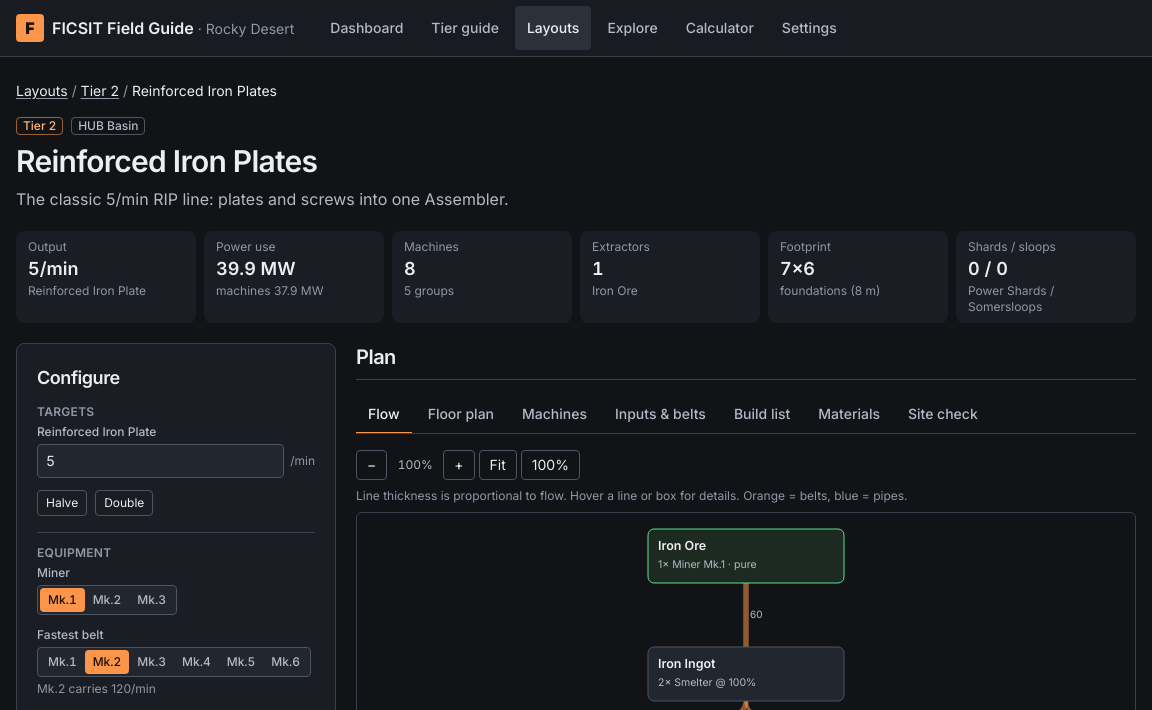
Test case: layout configurator › recalculates when the target rate changes
Replace the text in the number field labelled "Reinforced Iron Plate" with "10" at (161, 461), box [37, 444, 284, 478]
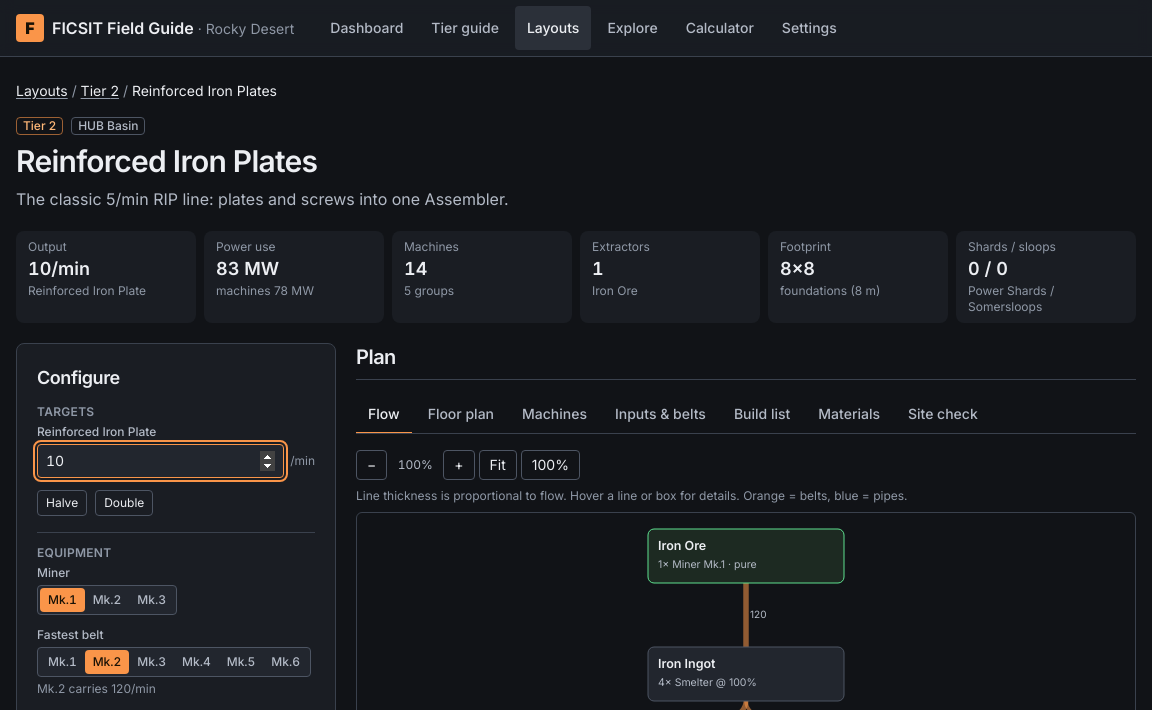
Check: the text "10/min" is shown, box [28, 258, 90, 279]
